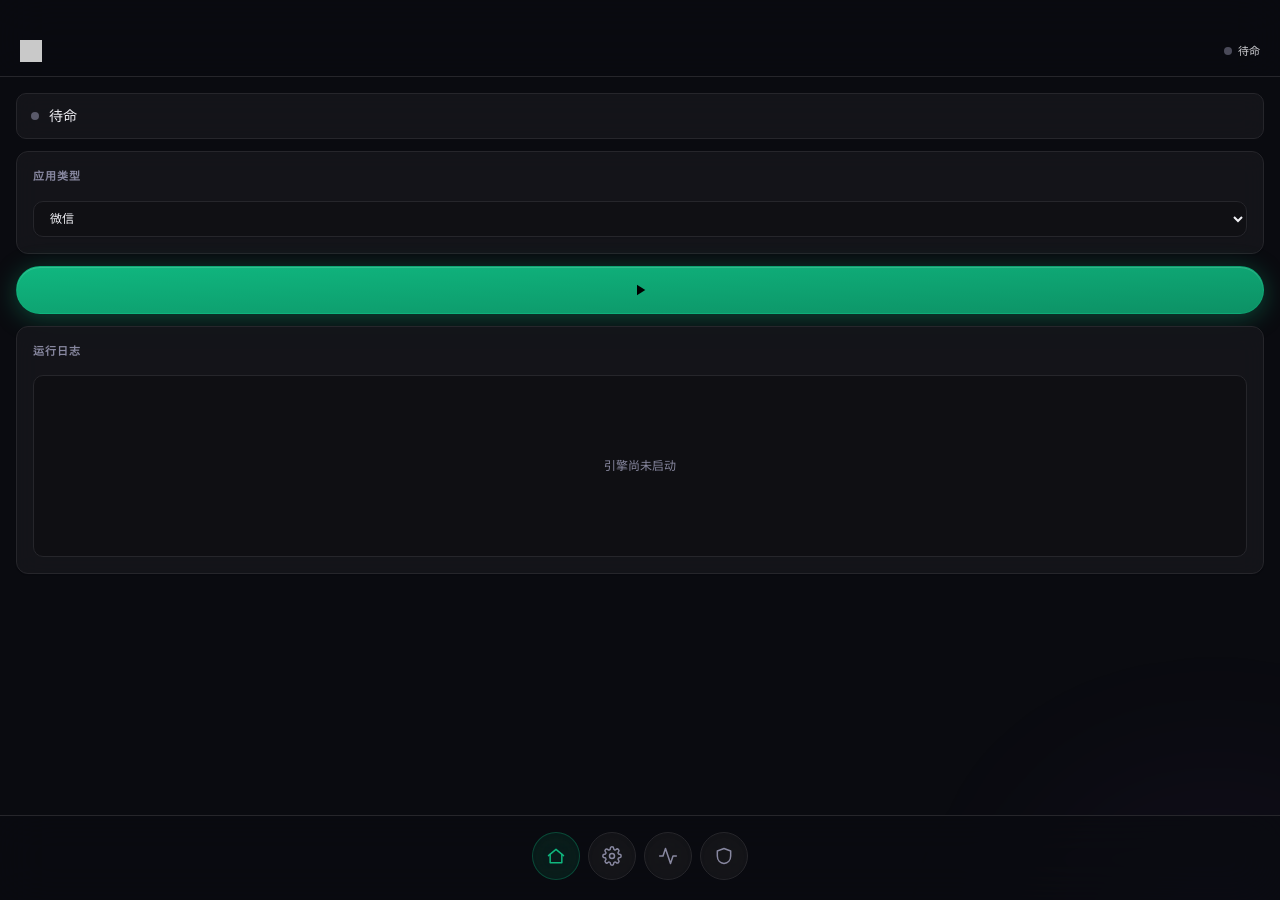
it: Settings flow › opens the settings panel when the gear button is clicked
Click the link with test id "nav-settings": (612, 856) [588,832,636,880]
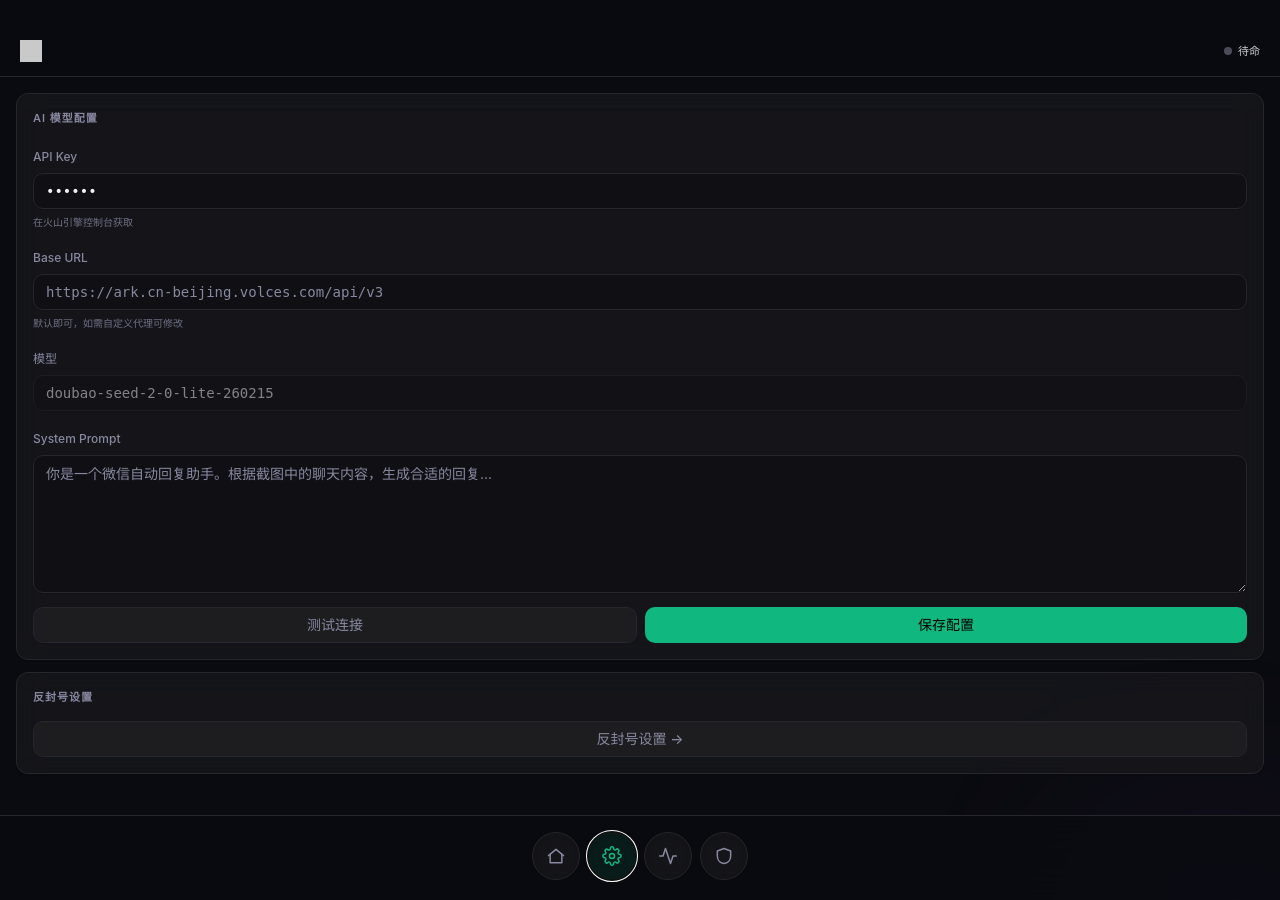
Expected: the text "AI 模型配置" is shown, [33,111,98,125]
